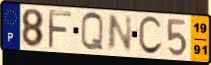5: (166, 18, 189, 58)
8: (20, 8, 46, 49)
C: (137, 15, 164, 57)
F: (46, 8, 73, 50)
N: (106, 14, 133, 54)
Q: (79, 11, 105, 53)
